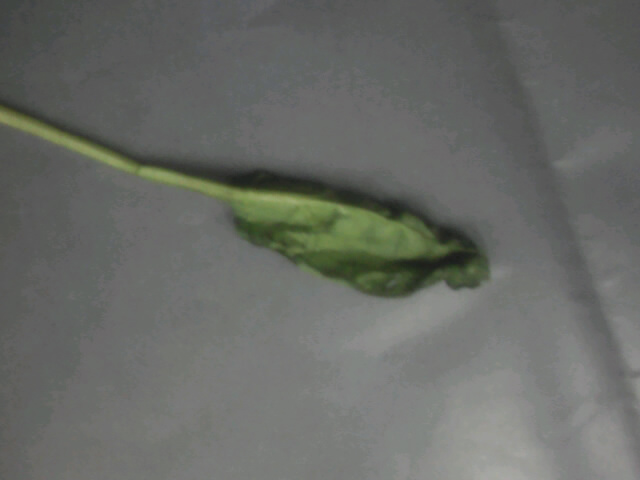yellow: (141, 142, 490, 305)
